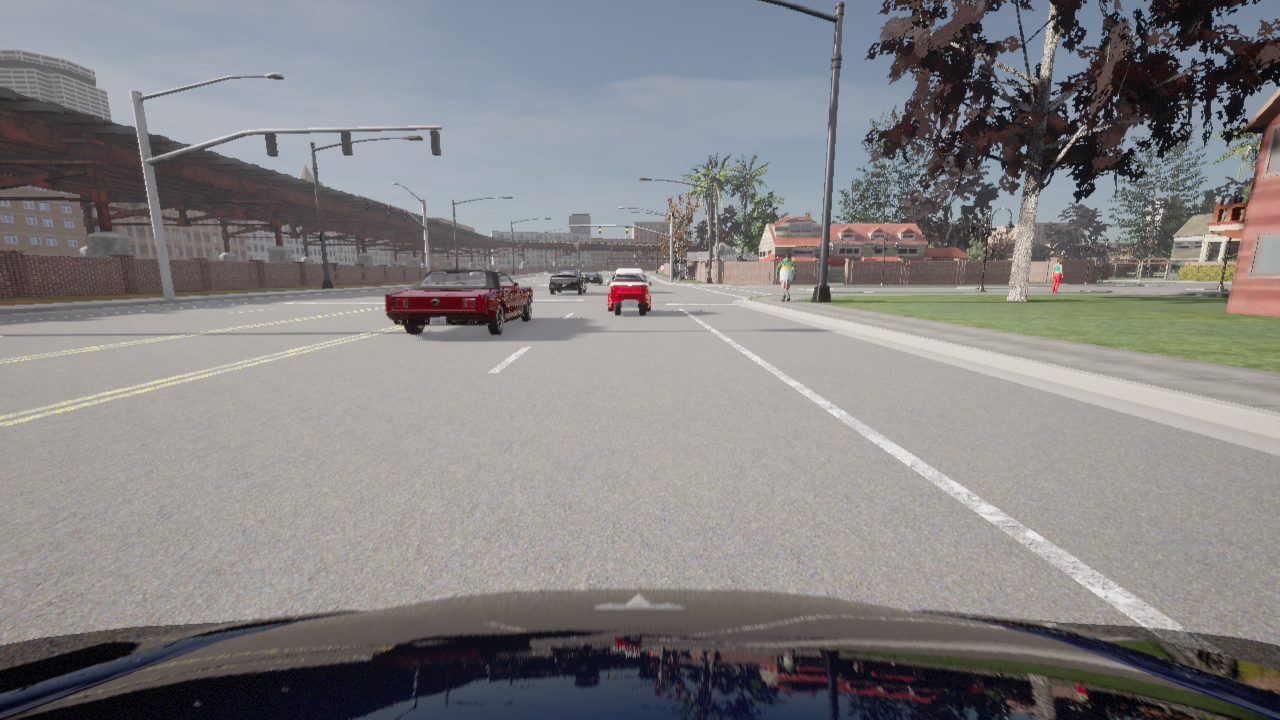cyclist: (0, 588, 1279, 719), (385, 269, 532, 334), (606, 268, 652, 315), (549, 269, 587, 294), (584, 271, 602, 284), (610, 275, 613, 276)
pedestrian: (776, 254, 796, 301), (1052, 259, 1062, 292)
